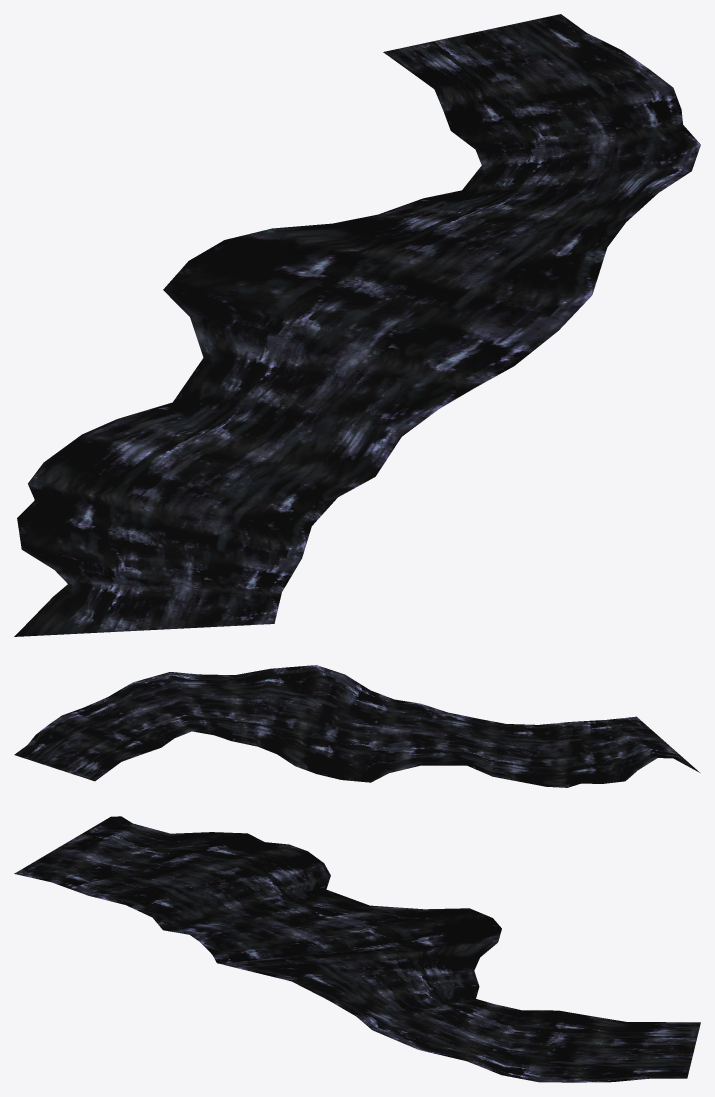
Rendered from water_streaks02.fbx.
3 views of the same model, one above another, from view 1: azimuth 30°, elevation 25°; view 2: azimuth 150°, elevation 25°; view 3: azimuth 270°, elevation 25° (orthographic). The views are drawn at different scales.
Parts seen in each view (by area): view 1: obj0.175; view 2: obj0.175; view 3: obj0.175.
Part boxes in pixels (<box>): obj0.175: <box>14,14,700,636</box>; obj0.175: <box>14,665,699,787</box>; obj0.175: <box>14,816,700,1082</box>.
Size of the model in its own units: 53.53 by 6.56 by 46.21.
